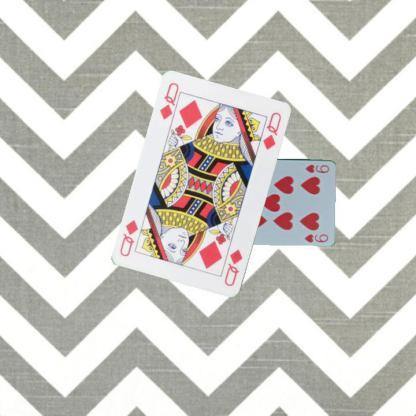9h: (302, 162, 330, 174)
Qd: (157, 80, 183, 126), (222, 247, 244, 288)
